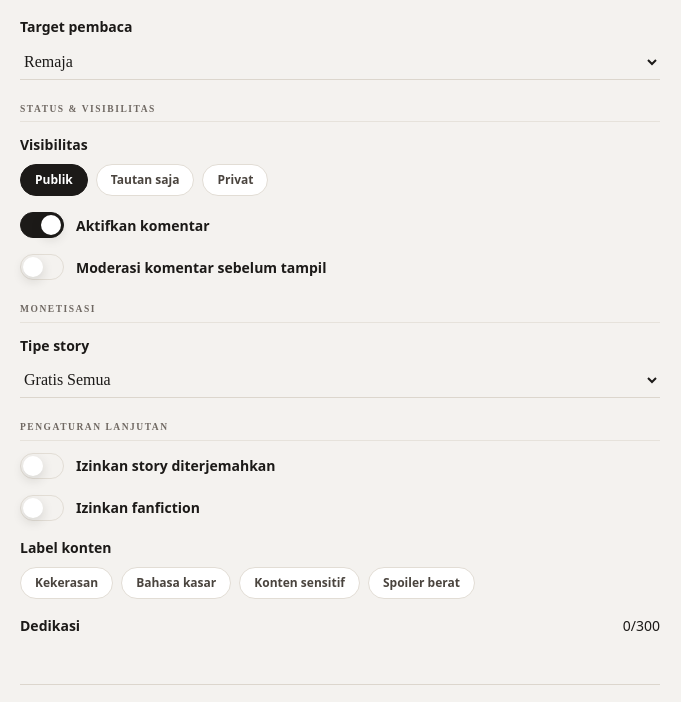
it: monetisasi terbalik antara dua mode · FR-STUDIO-15 · arch §1.5 › mode baru memperingatkan saat tipenya bukan gratis
The width and height of the screenshot is (681, 702).
(page scrolled)
Step 1. Select "Sebagian Berbayar" in the dropdown labelled "Tipe story" → (340, 380), box [20, 362, 660, 398]
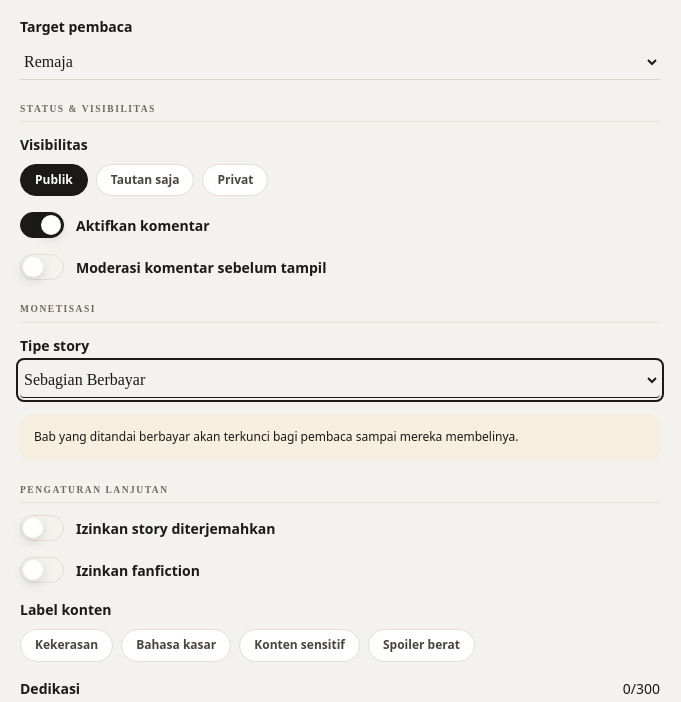
Expected: the text "akan terkunci bagi pembaca" is shown, [34, 428, 518, 446]
